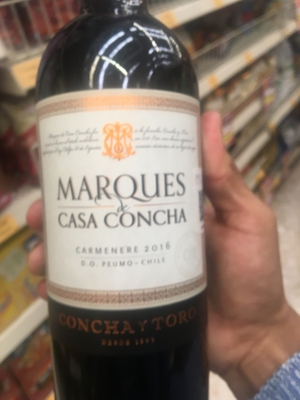marques de casa concha carmenere: (27, 24, 229, 400)
